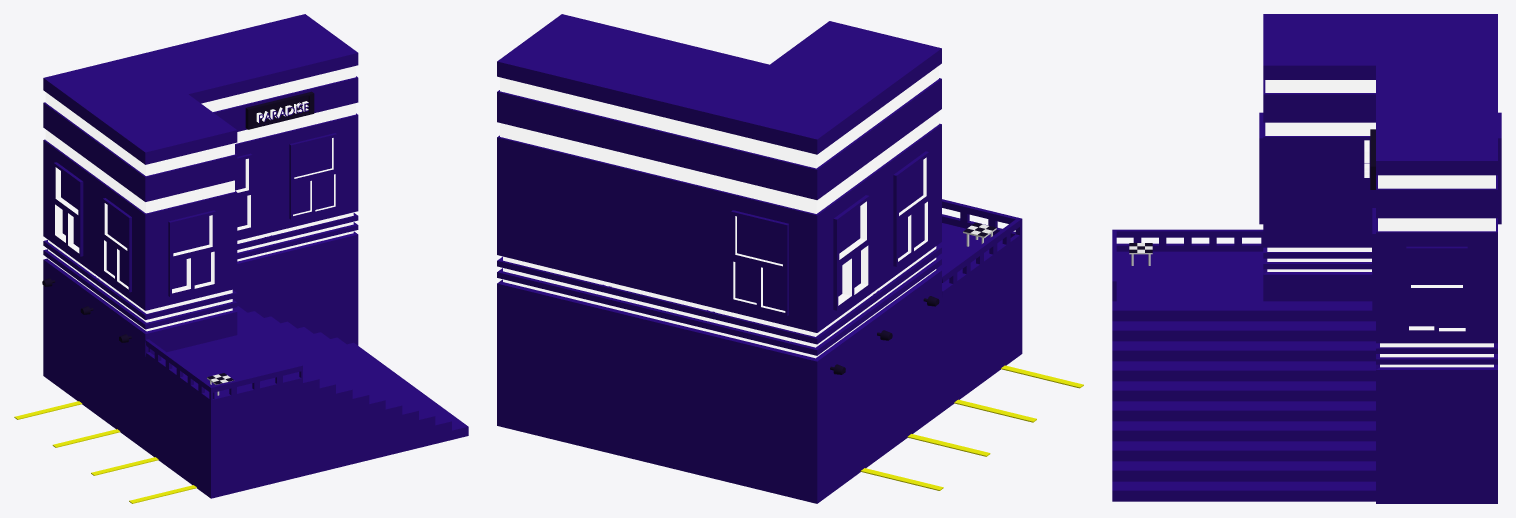
The model's file is PARADISE.glb.
3 renders of one model, left to right at view 1: azimuth 30°, elevation 25°; view 2: azimuth 150°, elevation 25°; view 3: azimuth 270°, elevation 25°, orthographic. The views are drawn at different scales.
Parts seen in each view (by area): view 1: Cube.001, Cube.002, Plane.001, Plane.002; view 2: Cube.001, Cube.002, Plane.002; view 3: Cube.001, Cube.002.
Part boxes in pixels (x1,y1,x2,y2): Cube.001: [43, 14, 468, 498]; Cube.002: [145, 339, 302, 405]; Plane.001: [245, 91, 314, 129]; Plane.002: [14, 401, 196, 503]; Cube.001: [497, 14, 1022, 503]; Cube.002: [942, 199, 1022, 298]; Plane.002: [860, 365, 1083, 490]; Cube.001: [1112, 14, 1501, 503]; Cube.002: [1112, 229, 1263, 301].
Size of what is drawn, in the model's own units: 9.95 by 8.6 by 8.85.
